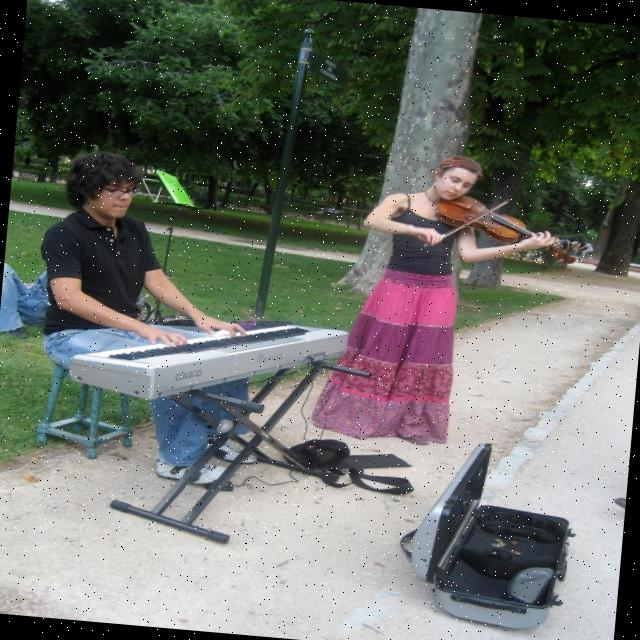violin: (431, 192, 586, 267)
